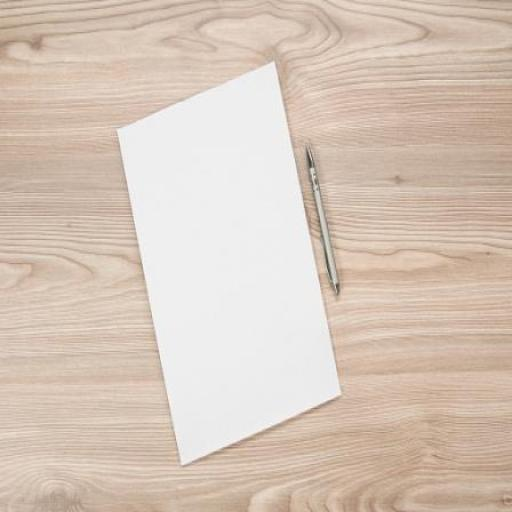paper: (111, 46, 343, 475)
